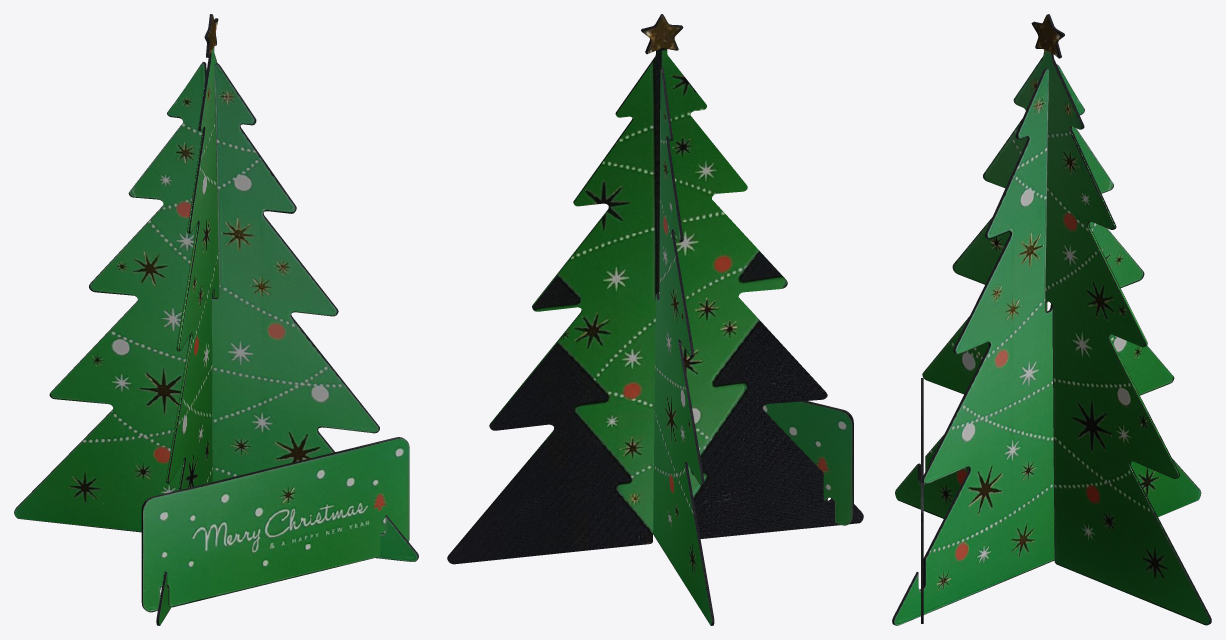
Rendered from XmasTree_20181118_1559.FBX.
The picture shows the model from 3 angles, left to right: view 1: azimuth 30°, elevation 25°; view 2: azimuth 150°, elevation 25°; view 3: azimuth 270°, elevation 25°; orthographic projection. The views are drawn at different scales.
Visible parts, largest first — view 1: Tree004, Rectangle001, Tree005; view 2: Tree005, Tree004, Rectangle001, Object; view 3: Tree005, Tree004, Object, Rectangle001.
Boxes of the visible parts, <box> form: Tree004: <box>14,62,418,561</box>; Rectangle001: <box>141,437,409,612</box>; Tree005: <box>156,46,219,625</box>; Tree005: <box>447,48,863,564</box>; Tree004: <box>653,68,714,625</box>; Rectangle001: <box>762,401,853,525</box>; Object: <box>641,14,683,54</box>; Tree005: <box>895,49,1211,625</box>; Tree004: <box>892,64,1201,625</box>; Object: <box>1031,14,1064,58</box>; Rectangle001: <box>921,378,923,623</box>.
Size of the model in its own units: 465 by 882 by 466.
